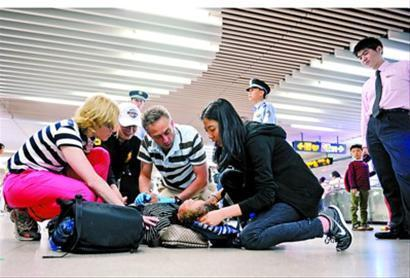Fall-Detected: (112, 182, 219, 247)
